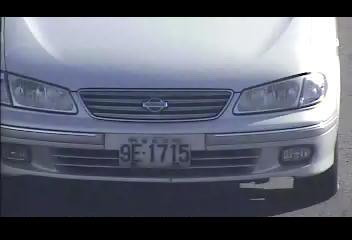plate: (118, 135, 191, 169)
